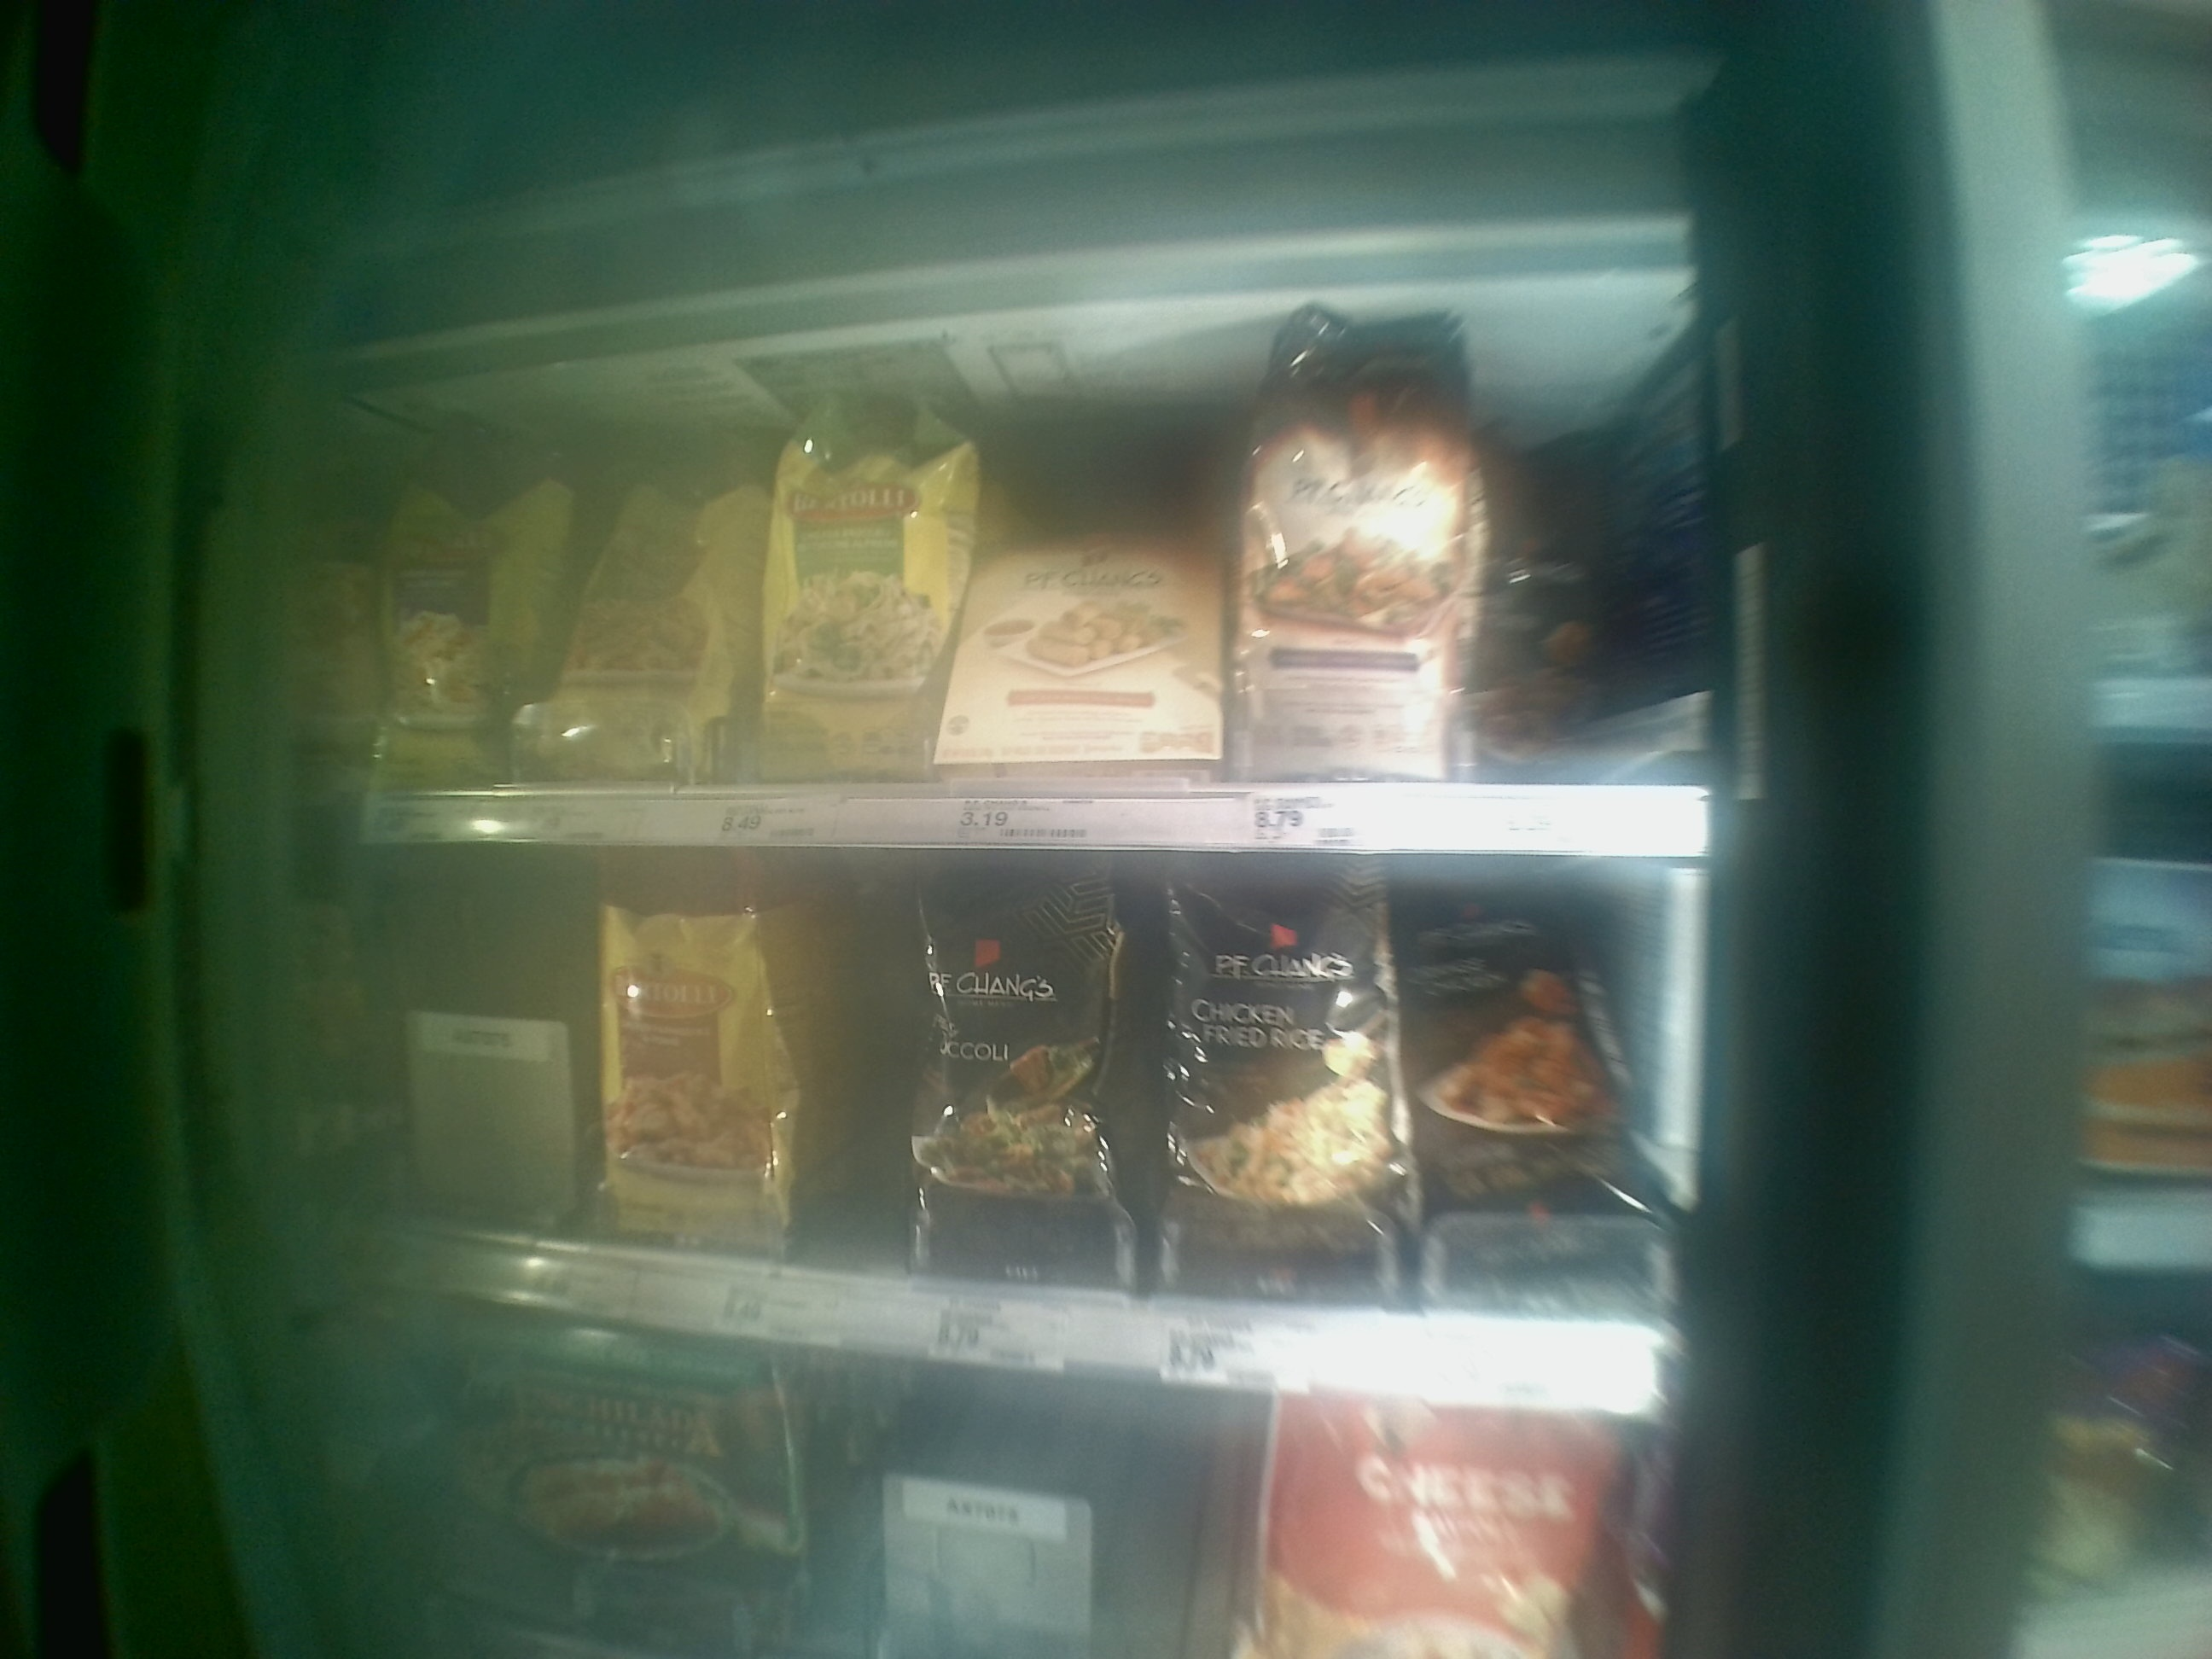shelf: (381, 836, 1686, 1410)
